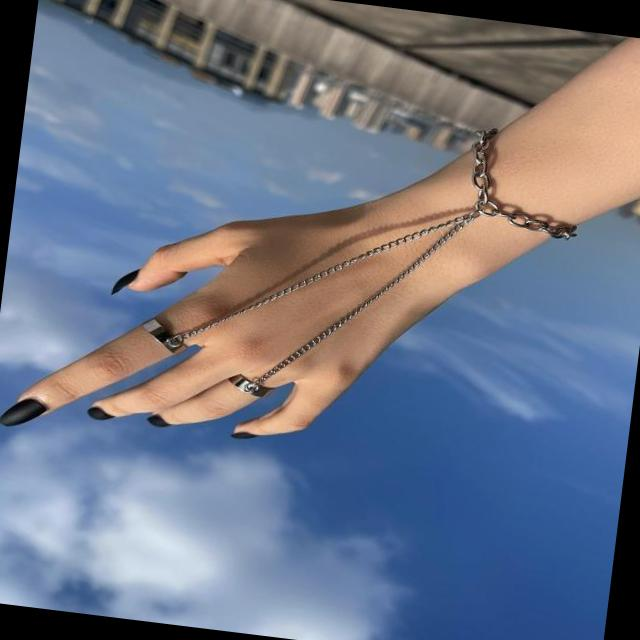Nail: (0, 397, 46, 425), (111, 269, 139, 293), (86, 405, 114, 419), (146, 414, 169, 427), (230, 431, 257, 438)
